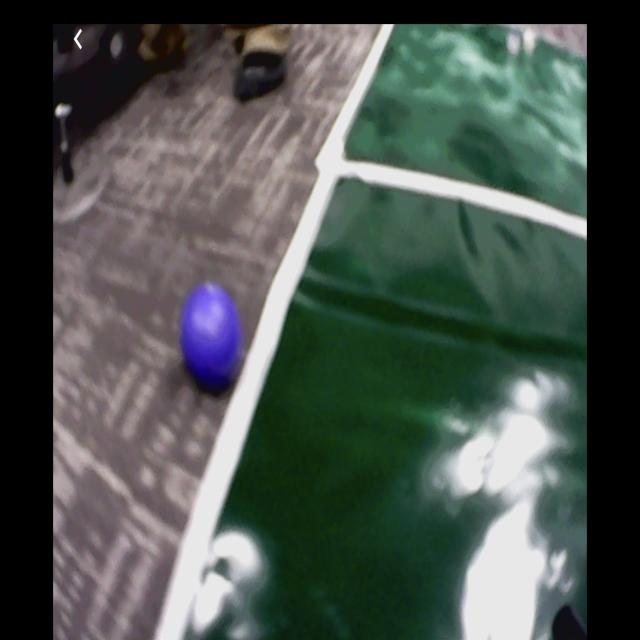ball: (183, 290, 241, 381)
